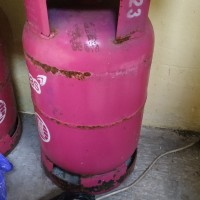bright_gas: (23, 1, 155, 195), (1, 9, 23, 156)
